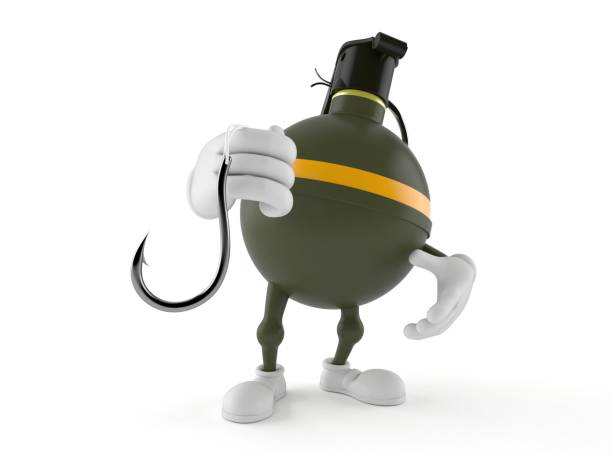e1: (237, 34, 435, 307)
